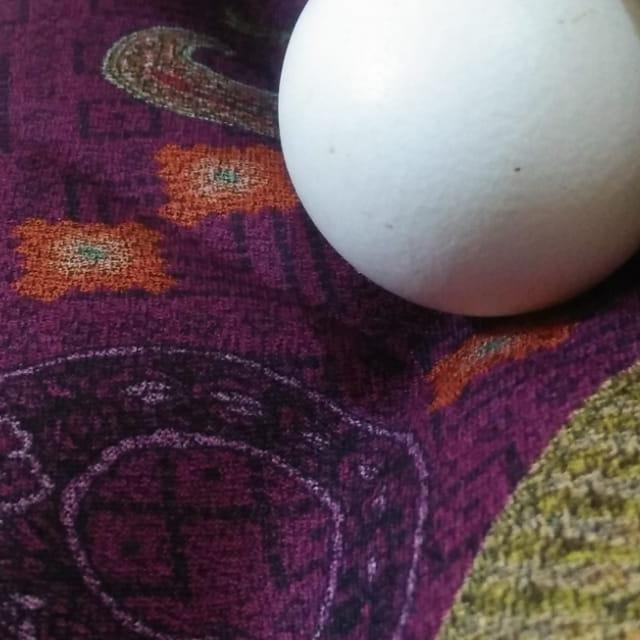egg: (271, 0, 640, 320)
